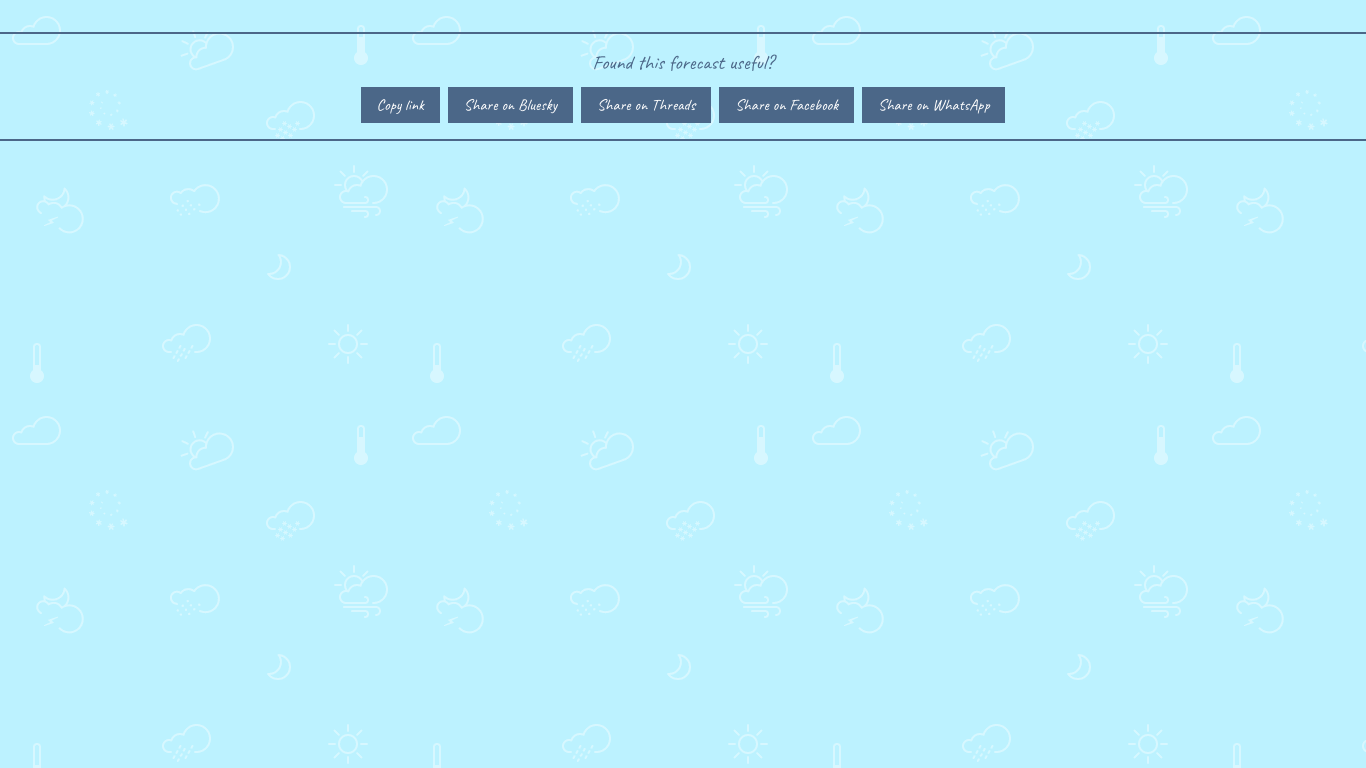
Test case: ShareButton › copies the post url to the clipboard and shows confirmation
The image size is (1366, 768).
Click the button with aria-label "Copy link to this forecast": point(400, 105) top-left (360, 87), bottom-right (440, 123)
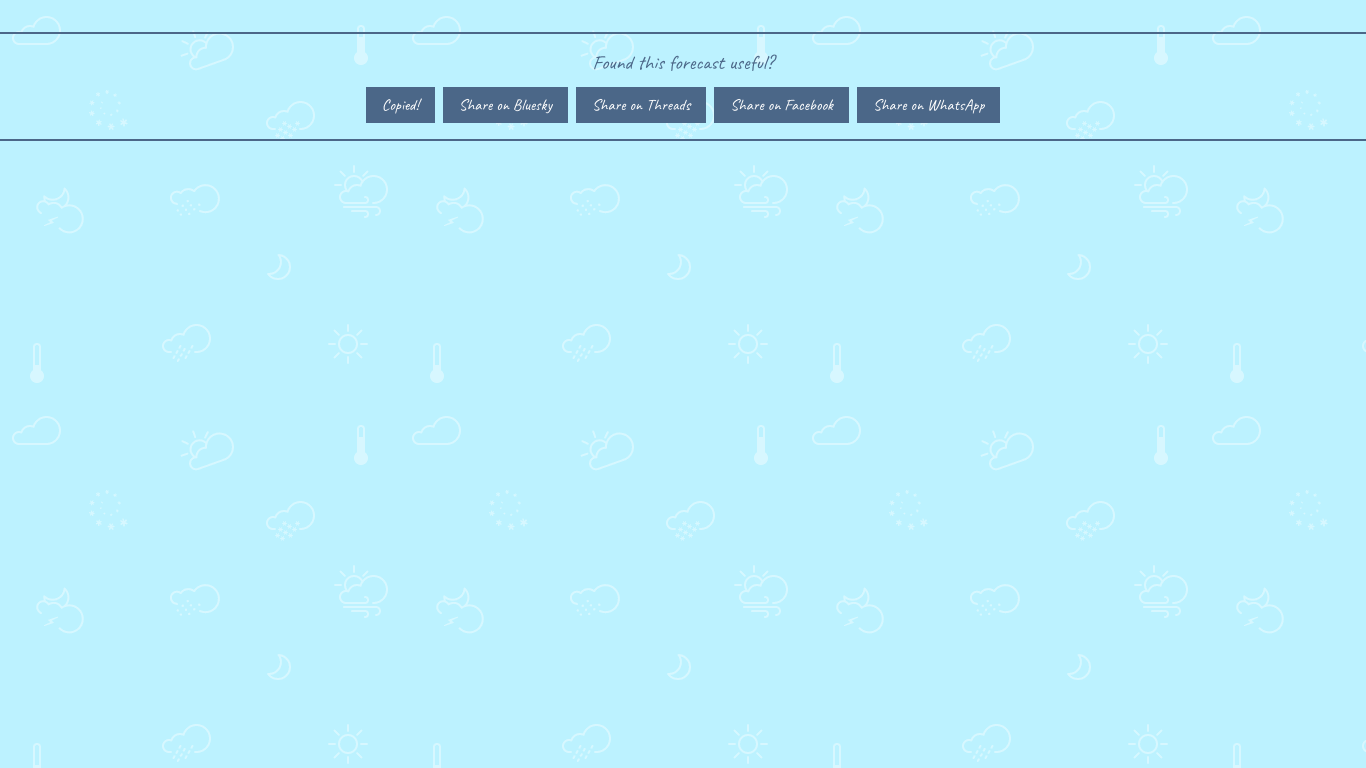
Check: the button "Copied!" is shown, box top-left (366, 87), bottom-right (435, 123)
